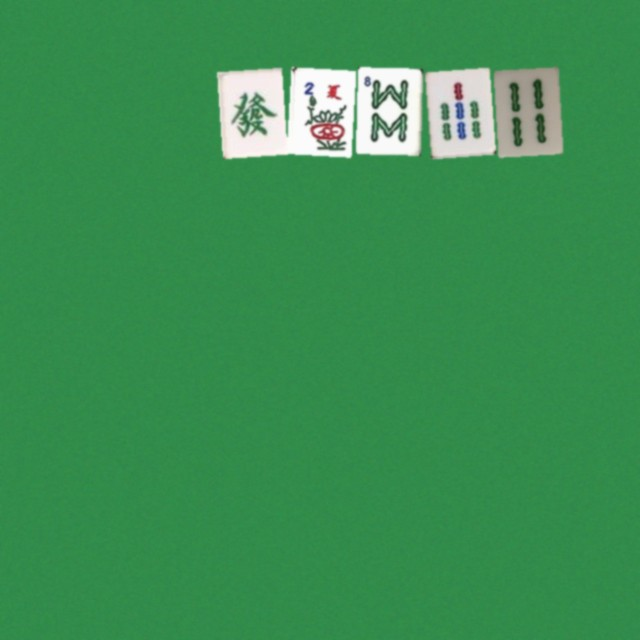tile: (217, 67, 282, 154), (286, 67, 351, 154), (355, 67, 420, 154), (424, 67, 489, 154), (493, 67, 558, 154)
